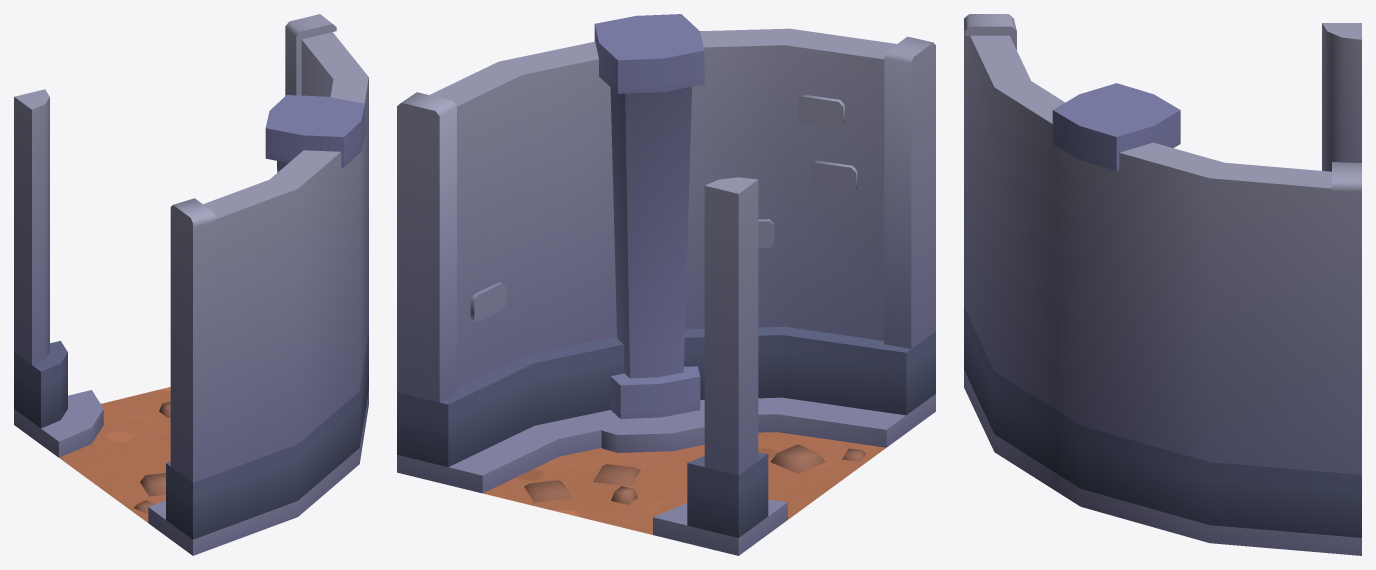
The model's file is dungeon_corridor_corner.glb.
3 renders of one model, left to right at view 1: azimuth 30°, elevation 25°; view 2: azimuth 150°, elevation 25°; view 3: azimuth 270°, elevation 25°, orthographic. The views are drawn at different scales.
Visible parts, largest first — view 1: corridor-corner; view 2: corridor-corner; view 3: corridor-corner.
Part boxes in pixels (x1,y1,x2,y2): corridor-corner: [14, 14, 368, 555]; corridor-corner: [397, 14, 935, 555]; corridor-corner: [964, 14, 1361, 555].
Bounding box in the file's own units: 4 × 4.23 × 4.
Materials: 1 (1 with a texture image).
